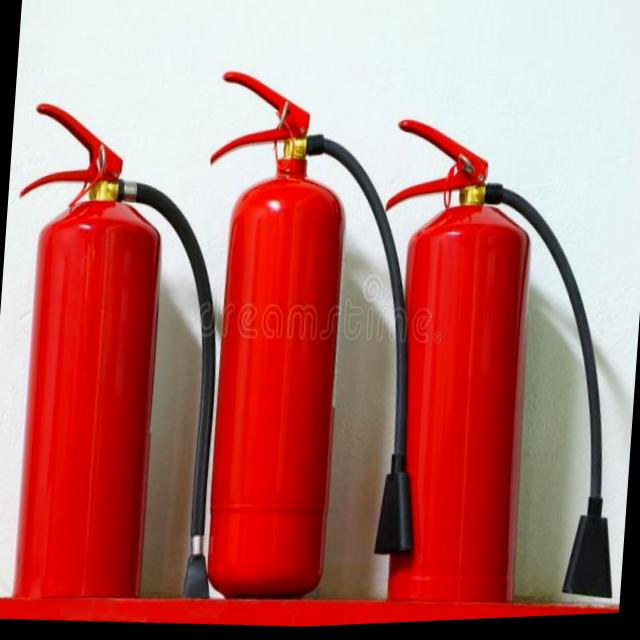FireExtinguisher: (172, 60, 450, 621), (347, 103, 640, 626), (0, 89, 249, 615)
